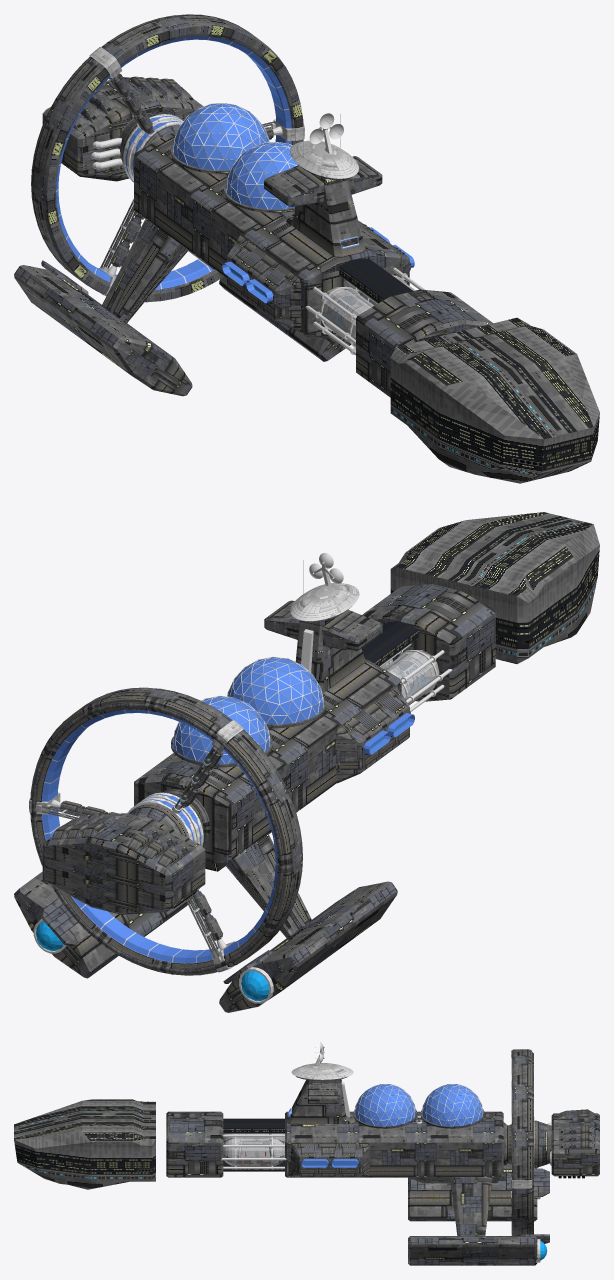
File: StarShipLP.obj
3 views of the same model, one above another, from view 1: azimuth 30°, elevation 25°; view 2: azimuth 150°, elevation 25°; view 3: azimuth 270°, elevation 25° (orthographic). The views are drawn at different scales.
Parts seen in each view (by area): view 1: spanel3, spanel4, blueShade, silver, spanel2, wpanels, spanel; view 2: spanel3, spanel4, blueShade, silver, spanel2, wpanels, bluelight, spanel; view 3: spanel3, spanel4, blueShade, silver, wpanels, spanel2.
Part boxes in pixels (<box>): spanel3: <box>14,14,492,397</box>; spanel4: <box>335,177,599,483</box>; blueShade: <box>56,36,414,303</box>; silver: <box>56,36,425,355</box>; spanel2: <box>89,47,359,296</box>; wpanels: <box>318,277,415,346</box>; spanel: <box>123,114,183,182</box>; spanel3: <box>14,584,495,1012</box>; spanel4: <box>361,512,599,666</box>; blueShade: <box>42,657,414,963</box>; silver: <box>33,553,452,1003</box>; spanel2: <box>29,583,359,972</box>; wpanels: <box>381,650,439,705</box>; bluelight: <box>36,718,408,1000</box>; spanel: <box>127,792,203,845</box>; spanel3: <box>166,1049,599,1265</box>; spanel4: <box>14,1077,297,1189</box>; blueShade: <box>288,1084,483,1167</box>; silver: <box>221,1042,551,1262</box>; wpanels: <box>223,1133,284,1166</box>; spanel2: <box>291,1049,534,1201</box>.
Bounding box in the file's own units: 801 × 853 × 2260.
